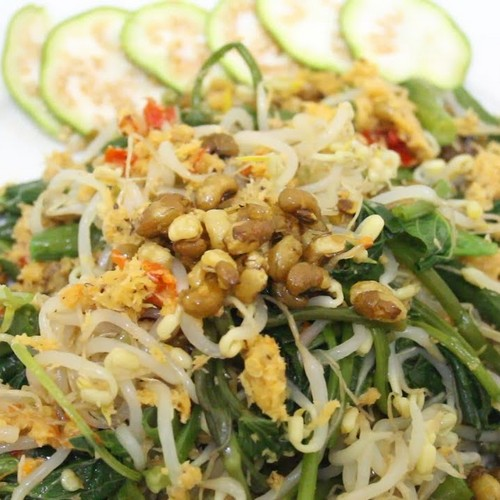serombotan: (23, 39, 500, 500)
